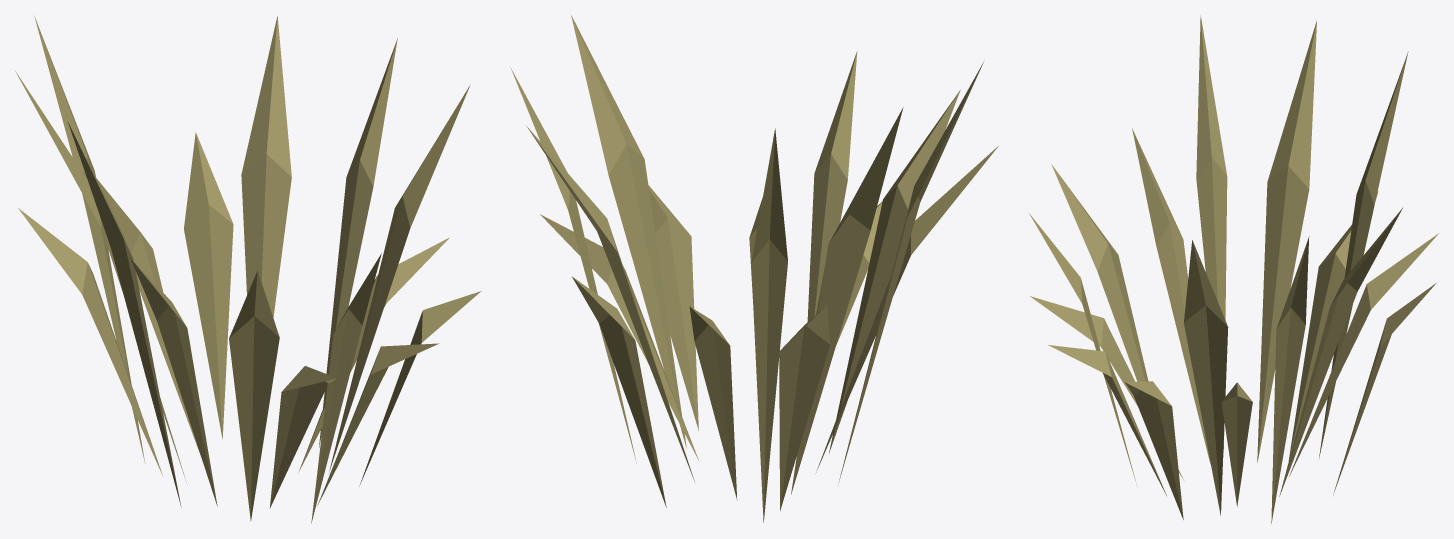
Rendered from dune_grass.glb.
The picture shows the model from 3 angles, left to right: view 1: azimuth 30°, elevation 25°; view 2: azimuth 150°, elevation 25°; view 3: azimuth 270°, elevation 25°; orthographic projection. The views are drawn at different scales.
Parts seen in each view (by area): view 1: MG2 dune_grass MG2 Dry grass; view 2: MG2 dune_grass MG2 Dry grass; view 3: MG2 dune_grass MG2 Dry grass.
Boxes of the visible parts, x1,y1,x2,y2 form: MG2 dune_grass MG2 Dry grass: [15, 16, 481, 523]; MG2 dune_grass MG2 Dry grass: [510, 15, 998, 522]; MG2 dune_grass MG2 Dry grass: [1029, 15, 1438, 523].
Bounding box in the file's own units: 0.4763 × 0.485 × 0.4708.
